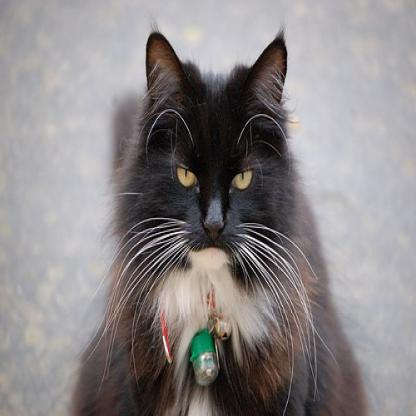cat: (61, 33, 374, 414)
